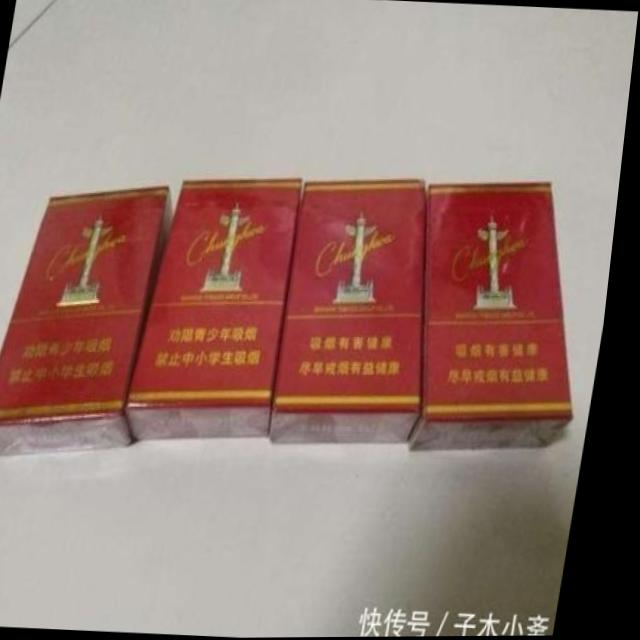box: (0, 187, 179, 456), (135, 178, 308, 440), (418, 181, 582, 450), (279, 178, 433, 445)
